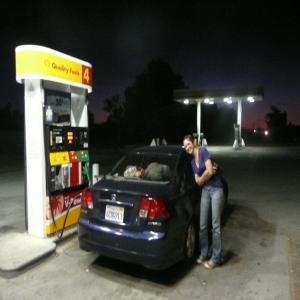Vehicle-registration-plate: (106, 204, 125, 224)
